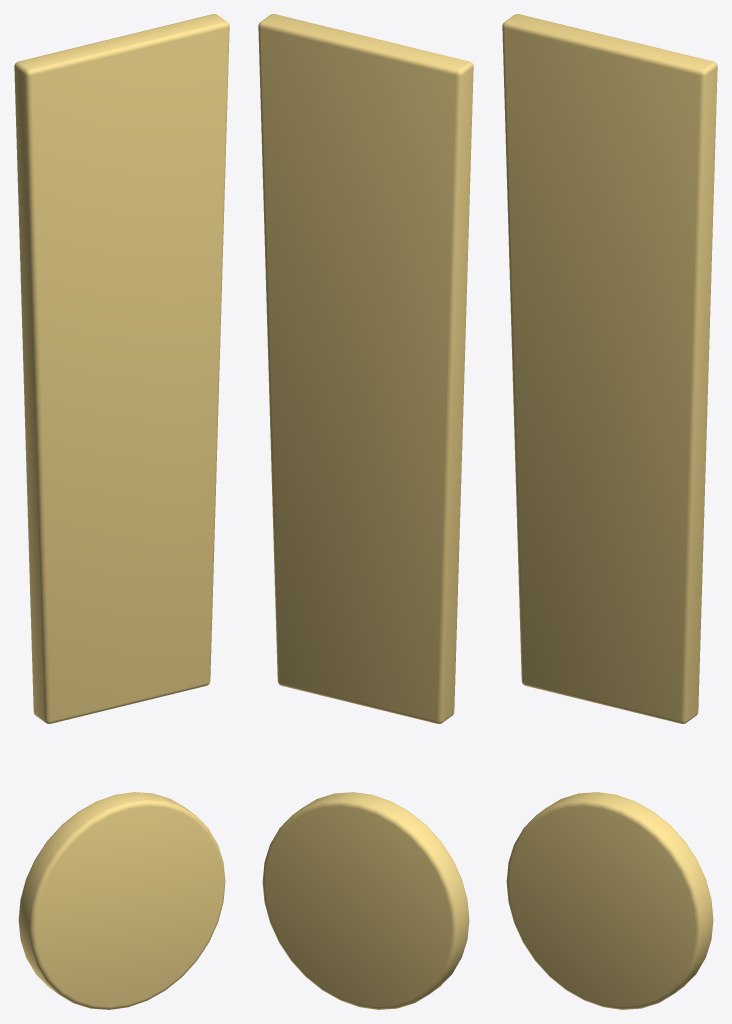
The model's file is SurpriseMarker.fbx.
3 renders of one model, left to right at view 1: azimuth 30°, elevation 25°; view 2: azimuth 150°, elevation 25°; view 3: azimuth 330°, elevation 25°, orthographic.
Visible parts, largest first — view 1: ExclamationStroke, ExclamationDot; view 2: ExclamationStroke, ExclamationDot; view 3: ExclamationStroke, ExclamationDot.
Boxes of the visible parts, bbox=[...] form: ExclamationStroke: bbox=[14, 14, 229, 723]; ExclamationDot: bbox=[18, 792, 225, 1009]; ExclamationStroke: bbox=[258, 14, 473, 723]; ExclamationDot: bbox=[262, 792, 469, 1009]; ExclamationStroke: bbox=[502, 14, 717, 723]; ExclamationDot: bbox=[506, 792, 713, 1009].
Bounding box in the file's own units: 0.0939 × 0.423 × 0.012.
